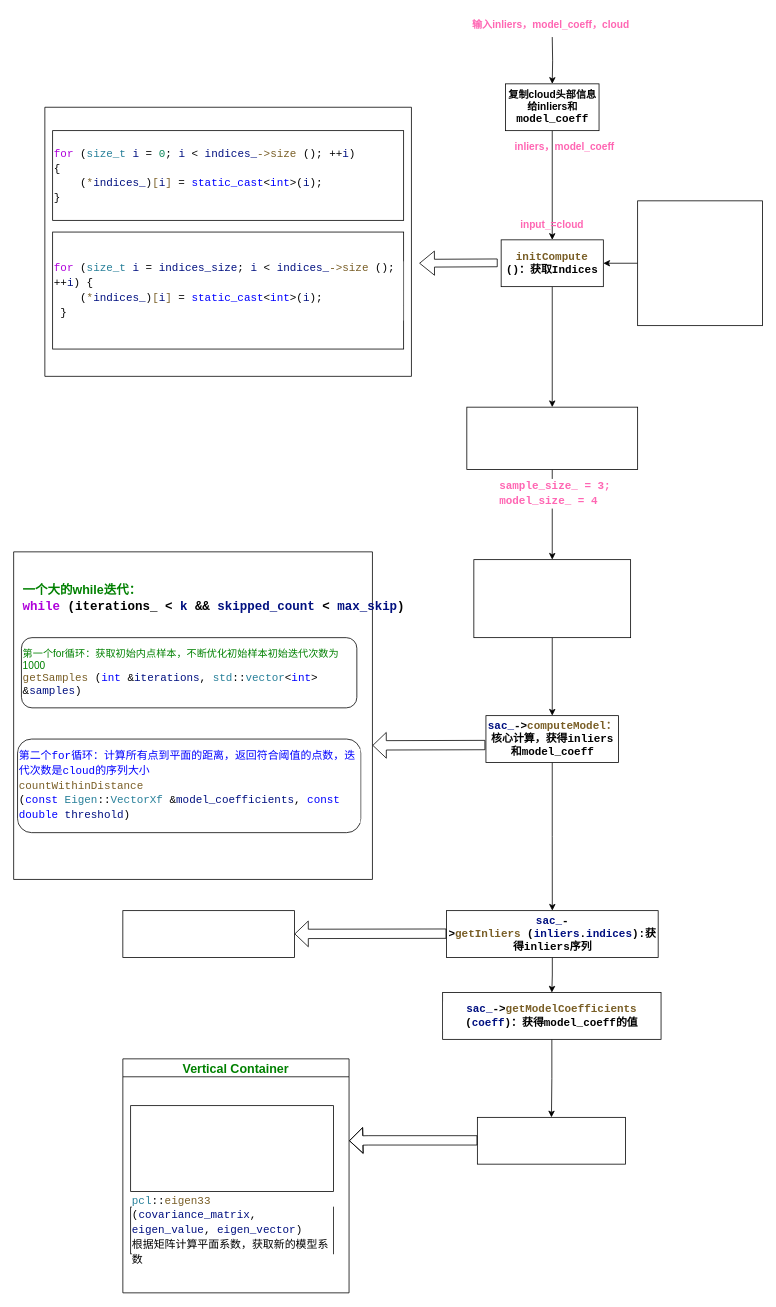
This 776x1307 diagram has some shape labels left out. Each missing label, with the box of its shape:
computeMeanAndCovarianceMatrix ： 计算平均和协方差矩阵， 训练新的优化模型，迭代次数为inliers的数量: (130, 1105, 333, 1191)
initSAC ( method_type_ )：初始化随机采样方法（RANSAC）和参数: (473, 559, 631, 638)
initSACModel ( model_type_ ):选择模型类型（平面）和参数: (466, 406, 638, 470)
optimize_coefficients_ ： 进一步优化: (477, 1117, 626, 1164)
两个verctor序列数组复制，应该能够并行: (122, 910, 294, 957)
获取序列indices， 如果没有给出点序列，则为整个输入点云构建一组序列， 如果 已经出在一组索引，但它们与云中的点数不匹配，则更新它们: (637, 200, 762, 326)
